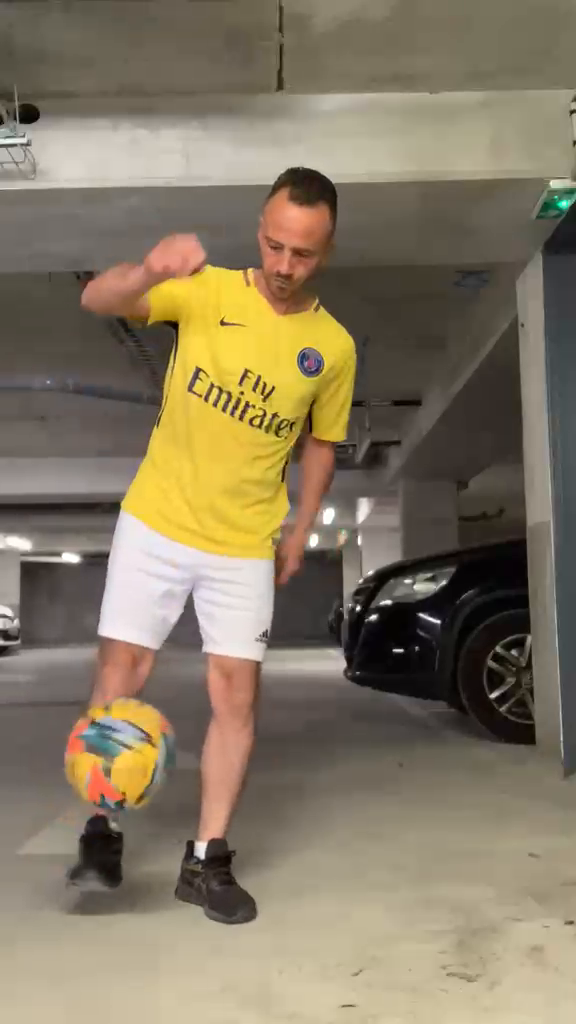ball: (61, 696, 176, 811)
